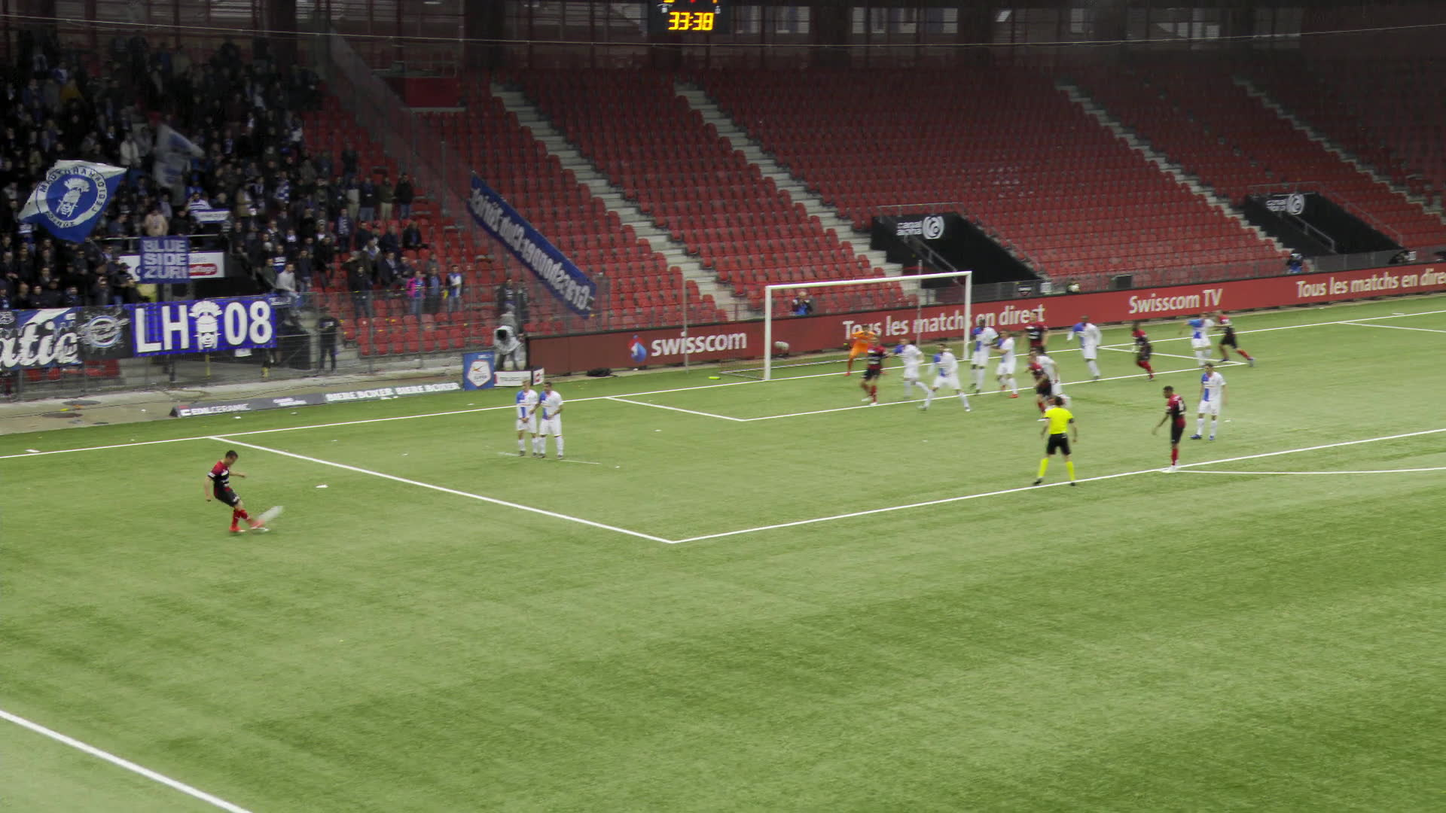ball: (260, 511, 275, 525)
player: (203, 448, 254, 534), (921, 342, 974, 411), (1154, 384, 1191, 473), (1027, 352, 1073, 421), (1191, 361, 1230, 442), (1031, 346, 1077, 411), (530, 380, 567, 460), (891, 336, 935, 401), (1069, 314, 1109, 382), (1214, 307, 1259, 367), (1018, 309, 1056, 379), (970, 315, 1002, 395), (1185, 311, 1227, 370), (847, 324, 892, 376), (1130, 318, 1164, 379), (862, 335, 892, 404), (993, 326, 1021, 398), (517, 379, 542, 458)
referee: (1037, 395, 1081, 486)
